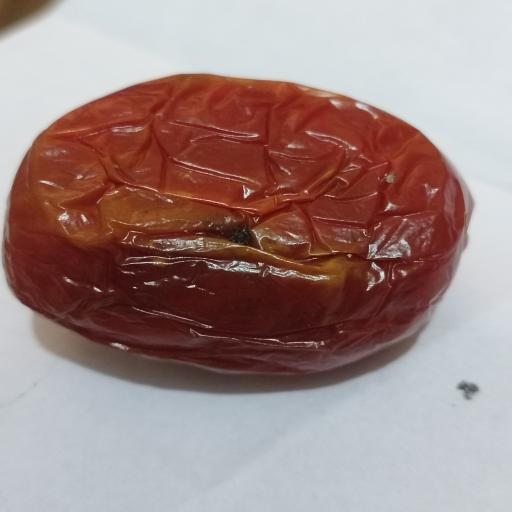spoiled: (4, 74, 469, 373)
